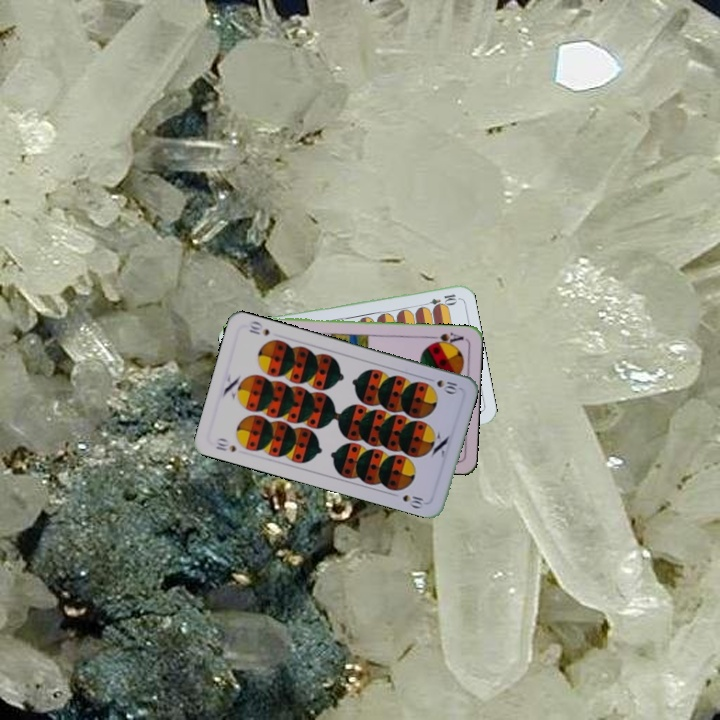E10: (419, 290, 459, 310)
S10: (423, 375, 462, 396), (211, 434, 239, 455)
SA: (426, 329, 466, 348)
